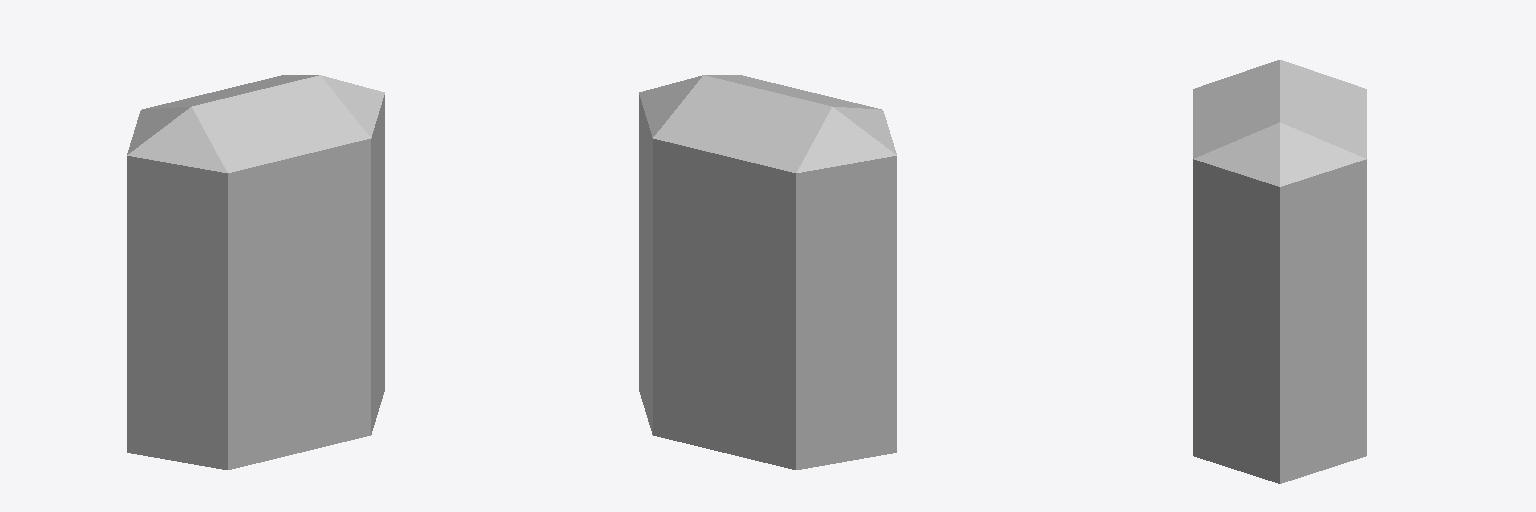
The model's file is Dynamite.obj.
3 renders of one model, left to right at view 1: azimuth 30°, elevation 25°; view 2: azimuth 150°, elevation 25°; view 3: azimuth 270°, elevation 25°, orthographic.
Parts seen in each view (by area): view 1: Cylinder.027_Cylinder.024; view 2: Cylinder.027_Cylinder.024; view 3: Cylinder.027_Cylinder.024.
Boxes of the visible parts, x1,y1,x2,y2 form: Cylinder.027_Cylinder.024: [127, 75, 384, 469]; Cylinder.027_Cylinder.024: [639, 75, 896, 469]; Cylinder.027_Cylinder.024: [1193, 60, 1366, 483].
Bounding box in the file's own units: 2.14 × 2.62 × 1.25.